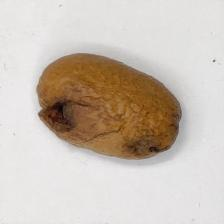NG: (34, 89, 94, 136), (121, 134, 173, 161)
